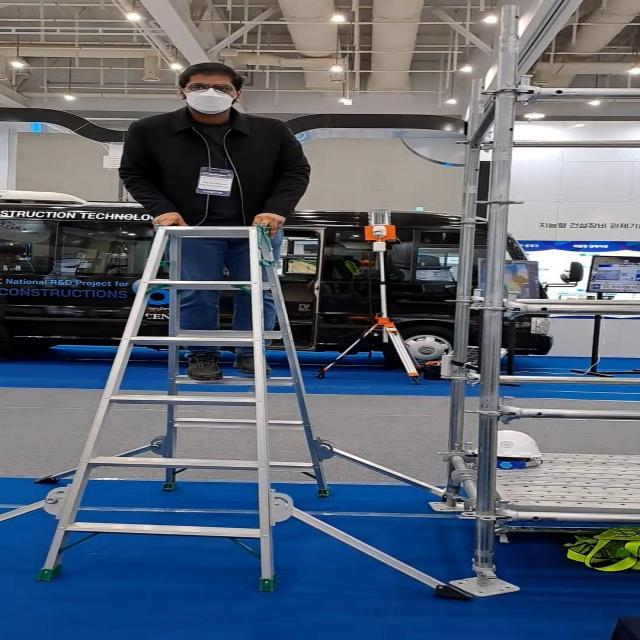boots: (1, 224, 480, 604)
vest: (111, 61, 312, 382)
